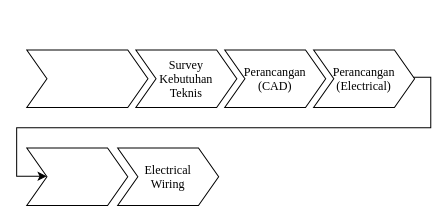
This 447x222 diagram has some shape labels left out. The shapes that lost their labels are listed below. From the top down, each one's centre as x and y in pixels, then its label:
[87,78]: Pengumpulan Data
[77,176]: Printing 3D Model
